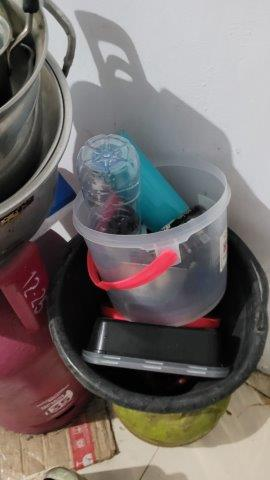botolplastik: (76, 133, 141, 261)
